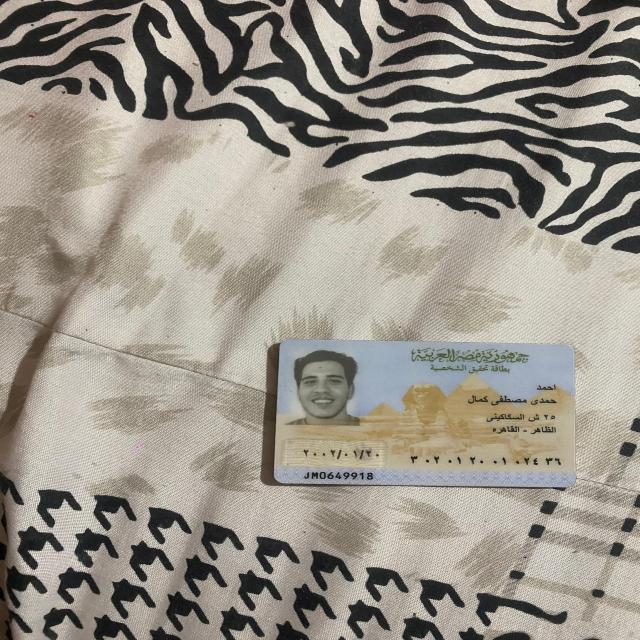ID-cards: (269, 335, 583, 490)
